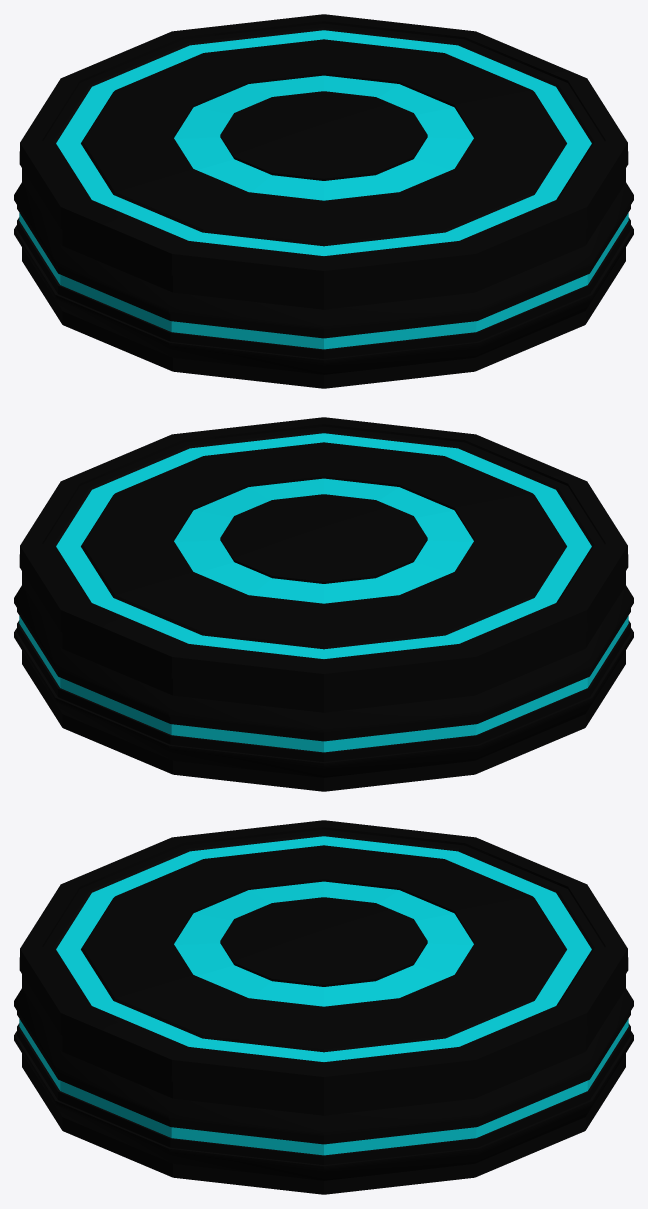
The model's file is PlatformRoboticUberShort01.fbx.
3 renders of one model, top to bottom at view 1: azimuth 30°, elevation 25°; view 2: azimuth 150°, elevation 25°; view 3: azimuth 270°, elevation 25°, orthographic.
Visible parts, largest first — view 1: PlatformRobotic01, pCylinder2; view 2: PlatformRobotic01, pCylinder2; view 3: PlatformRobotic01, pCylinder2.
Part boxes in pixels (x1,y1,x2,y2): PlatformRobotic01: [19, 14, 628, 388]; pCylinder2: [14, 182, 633, 374]; PlatformRobotic01: [19, 417, 628, 791]; pCylinder2: [14, 585, 633, 777]; PlatformRobotic01: [19, 820, 628, 1194]; pCylinder2: [14, 988, 633, 1180].
Bounding box in the file's own units: 2.55 × 0.6989 × 2.55.
